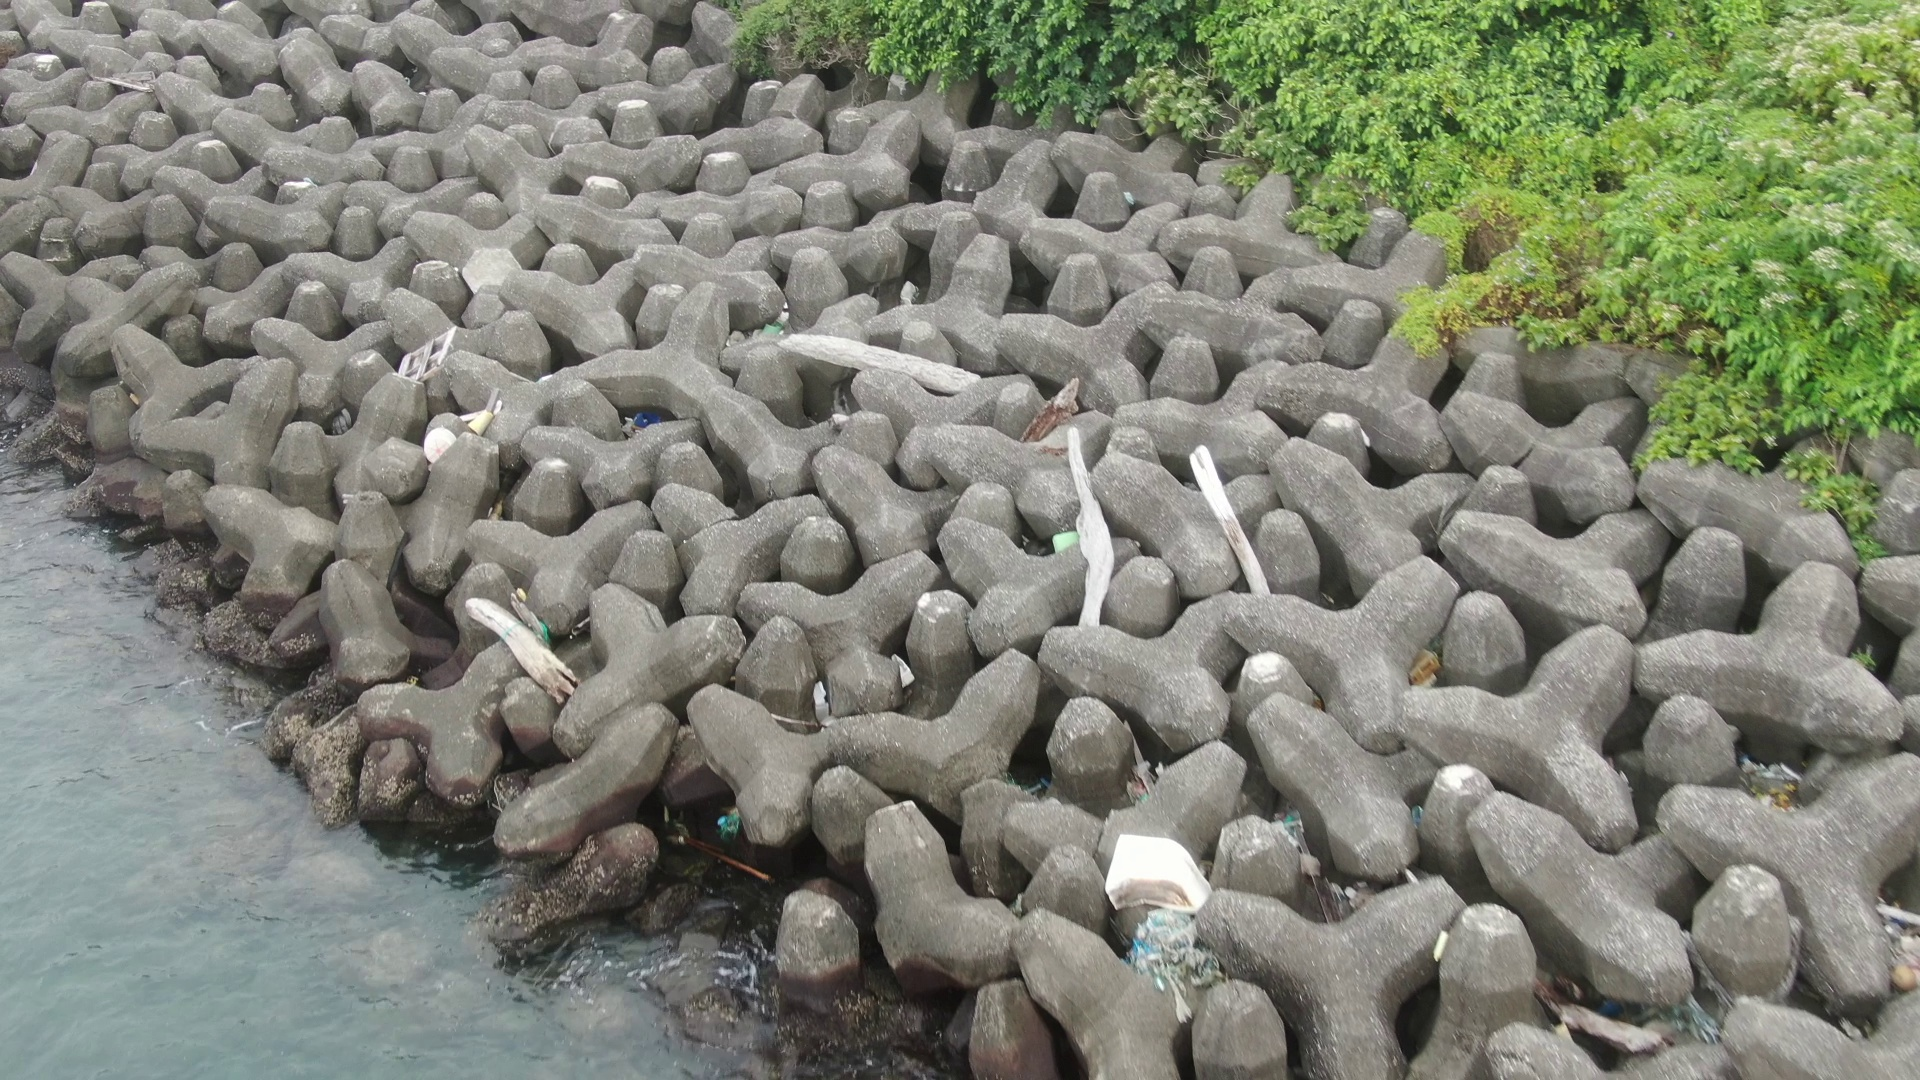garbage: (1106, 814, 1232, 1007), (1571, 922, 1735, 1062), (500, 574, 632, 676), (1273, 800, 1373, 927), (1745, 749, 1826, 837), (418, 396, 520, 462), (709, 783, 770, 869), (882, 640, 939, 724), (389, 328, 468, 382), (1870, 894, 1920, 975), (796, 669, 845, 746), (736, 299, 803, 347), (620, 401, 671, 444), (1411, 638, 1445, 702), (1052, 522, 1087, 553)
